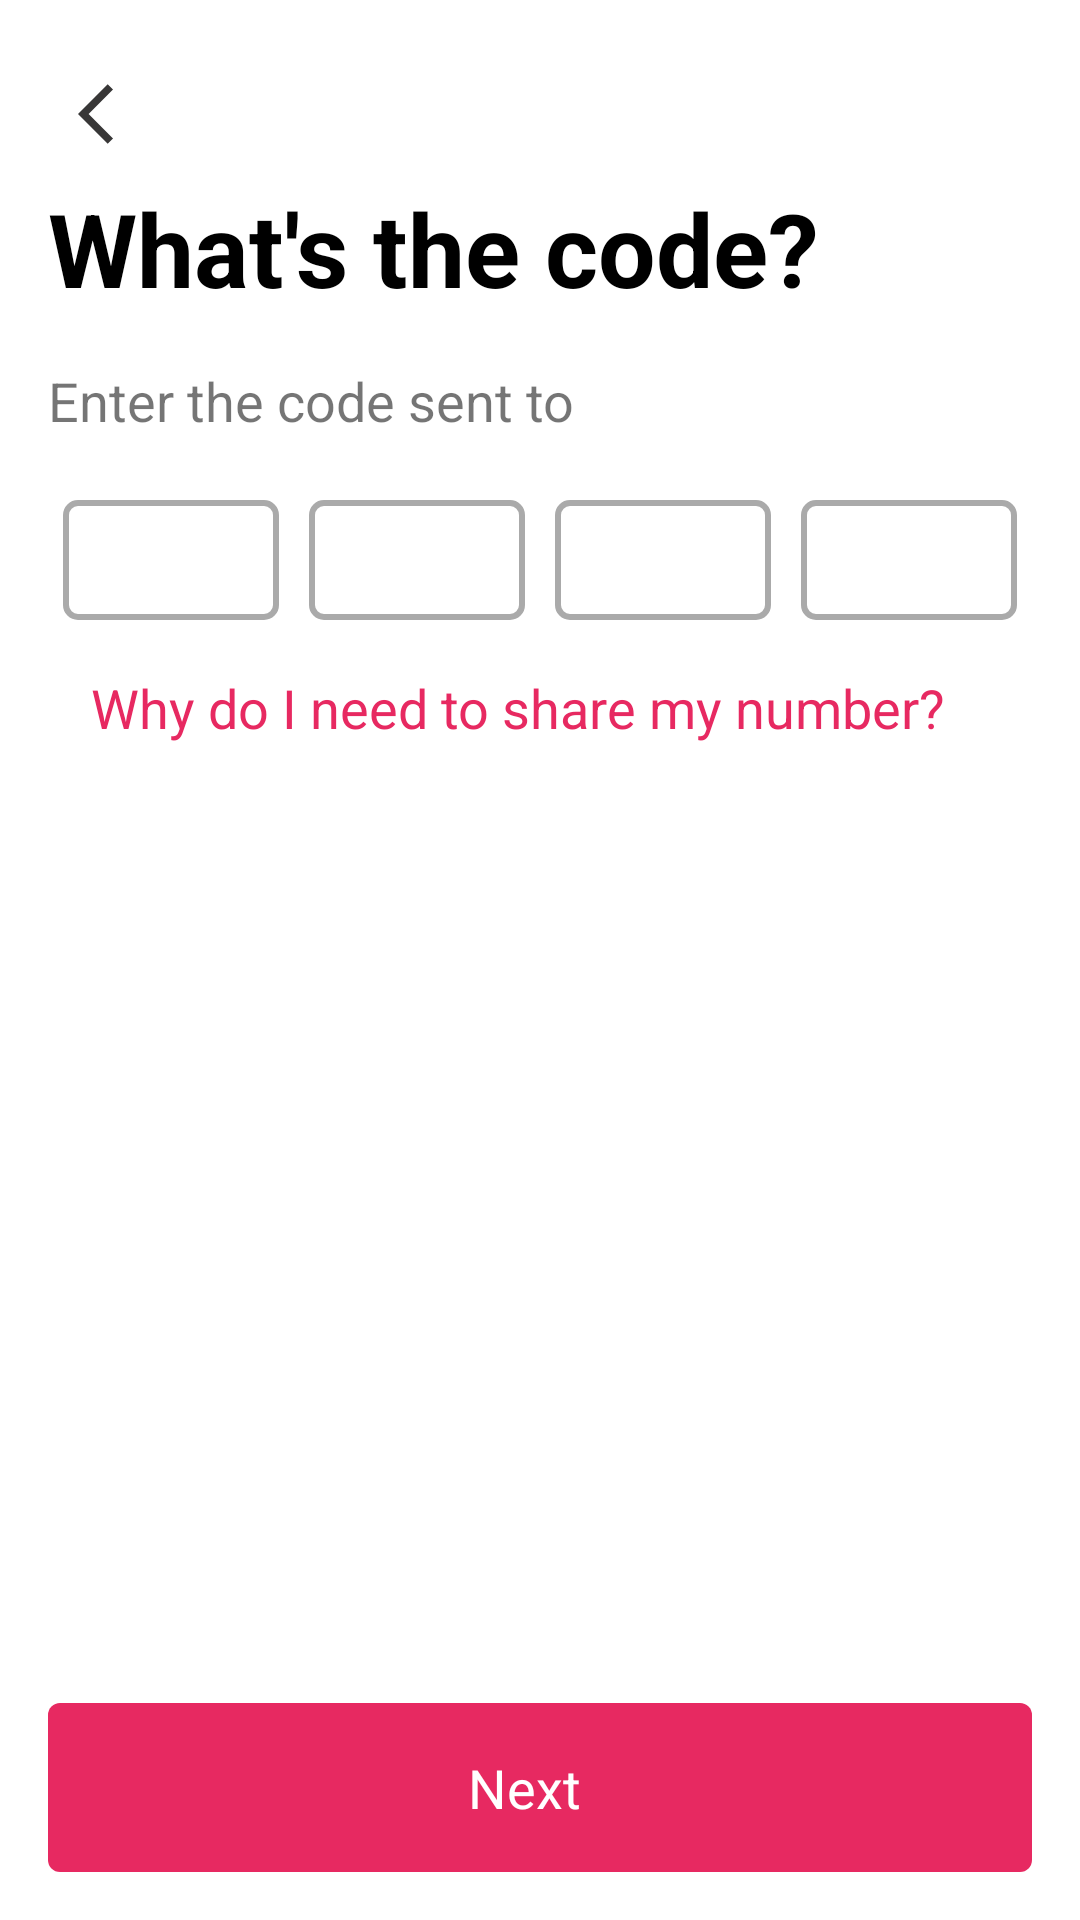

Icon bounding boxes for this 1080×1920 phone screenshot, format box(x1, y1, x2, y2):
arrow back: box(78, 84, 113, 144)
